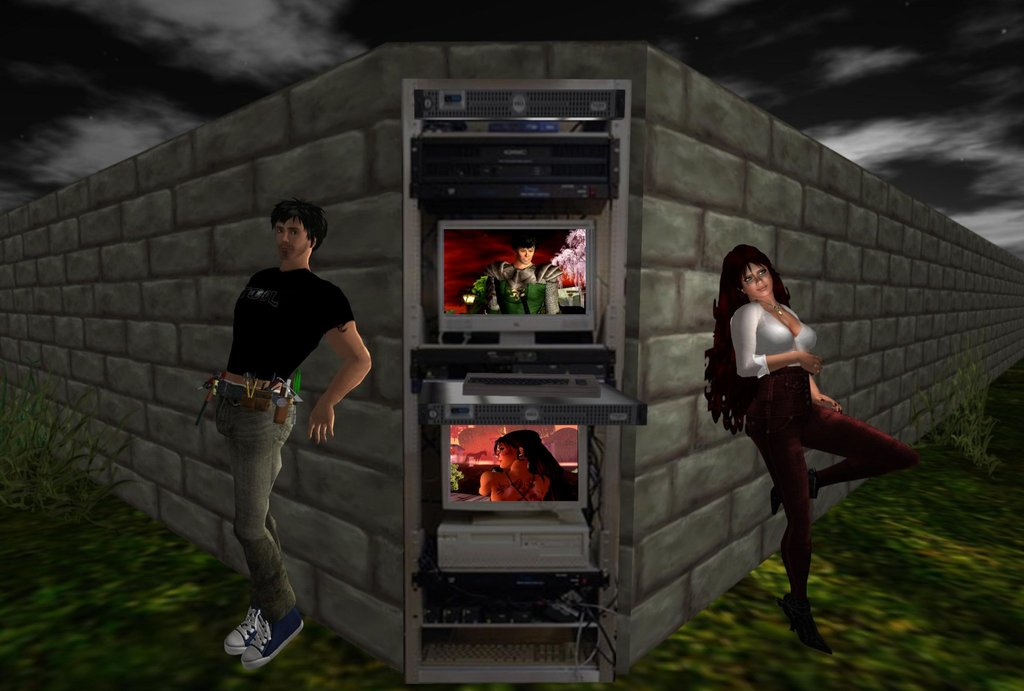Footwear: (240, 610, 308, 672), (783, 592, 840, 658), (769, 467, 819, 517), (225, 601, 261, 657)
